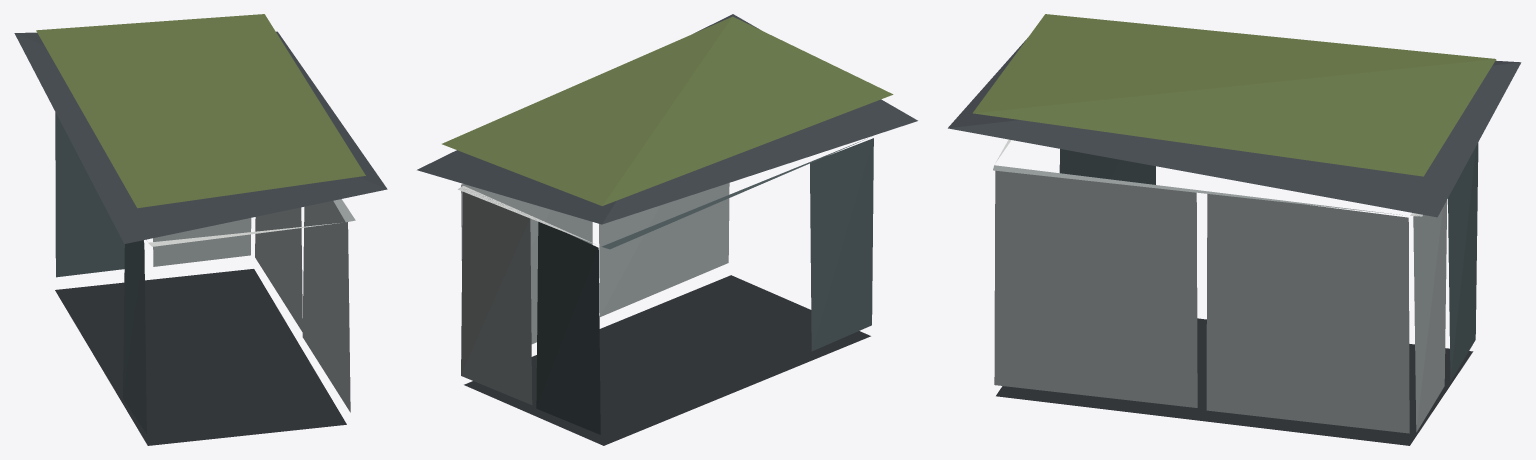
The model's file is kiosk-dr-falafel.lod2.glb.
The picture shows the model from 3 angles, left to right: view 1: azimuth 30°, elevation 25°; view 2: azimuth 150°, elevation 25°; view 3: azimuth 270°, elevation 25°; orthographic projection. The views are drawn at different scales.
Parts seen in each view (by area): view 1: lod2; view 2: lod2; view 3: lod2.
Boxes of the visible parts, x1,y1,x2,y2 form: lod2: [14, 14, 387, 445]; lod2: [417, 14, 917, 445]; lod2: [948, 14, 1521, 445].
Bounding box in the file's own units: 4.3 × 3.14 × 5.68.
